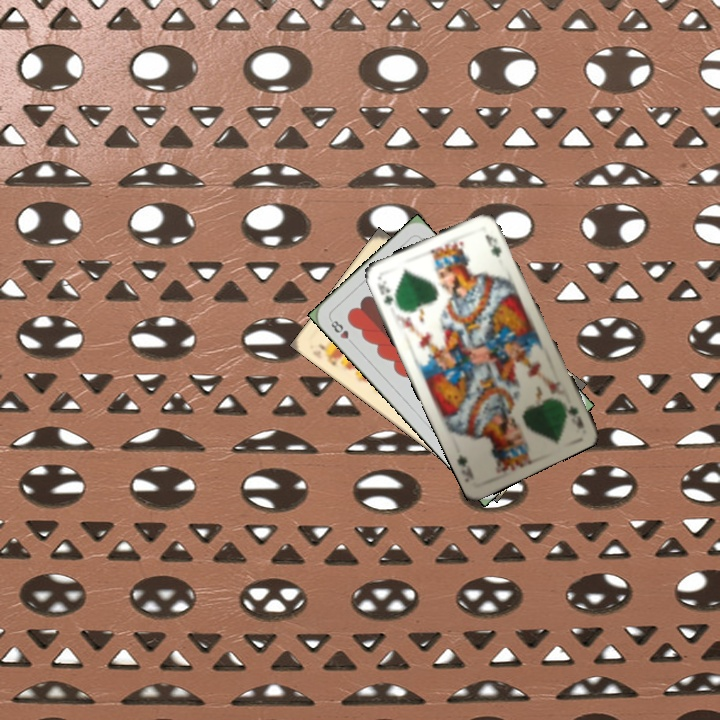E10: (314, 339, 343, 368)
GK: (373, 277, 396, 307), (558, 397, 581, 419)
H8: (326, 315, 357, 348)
